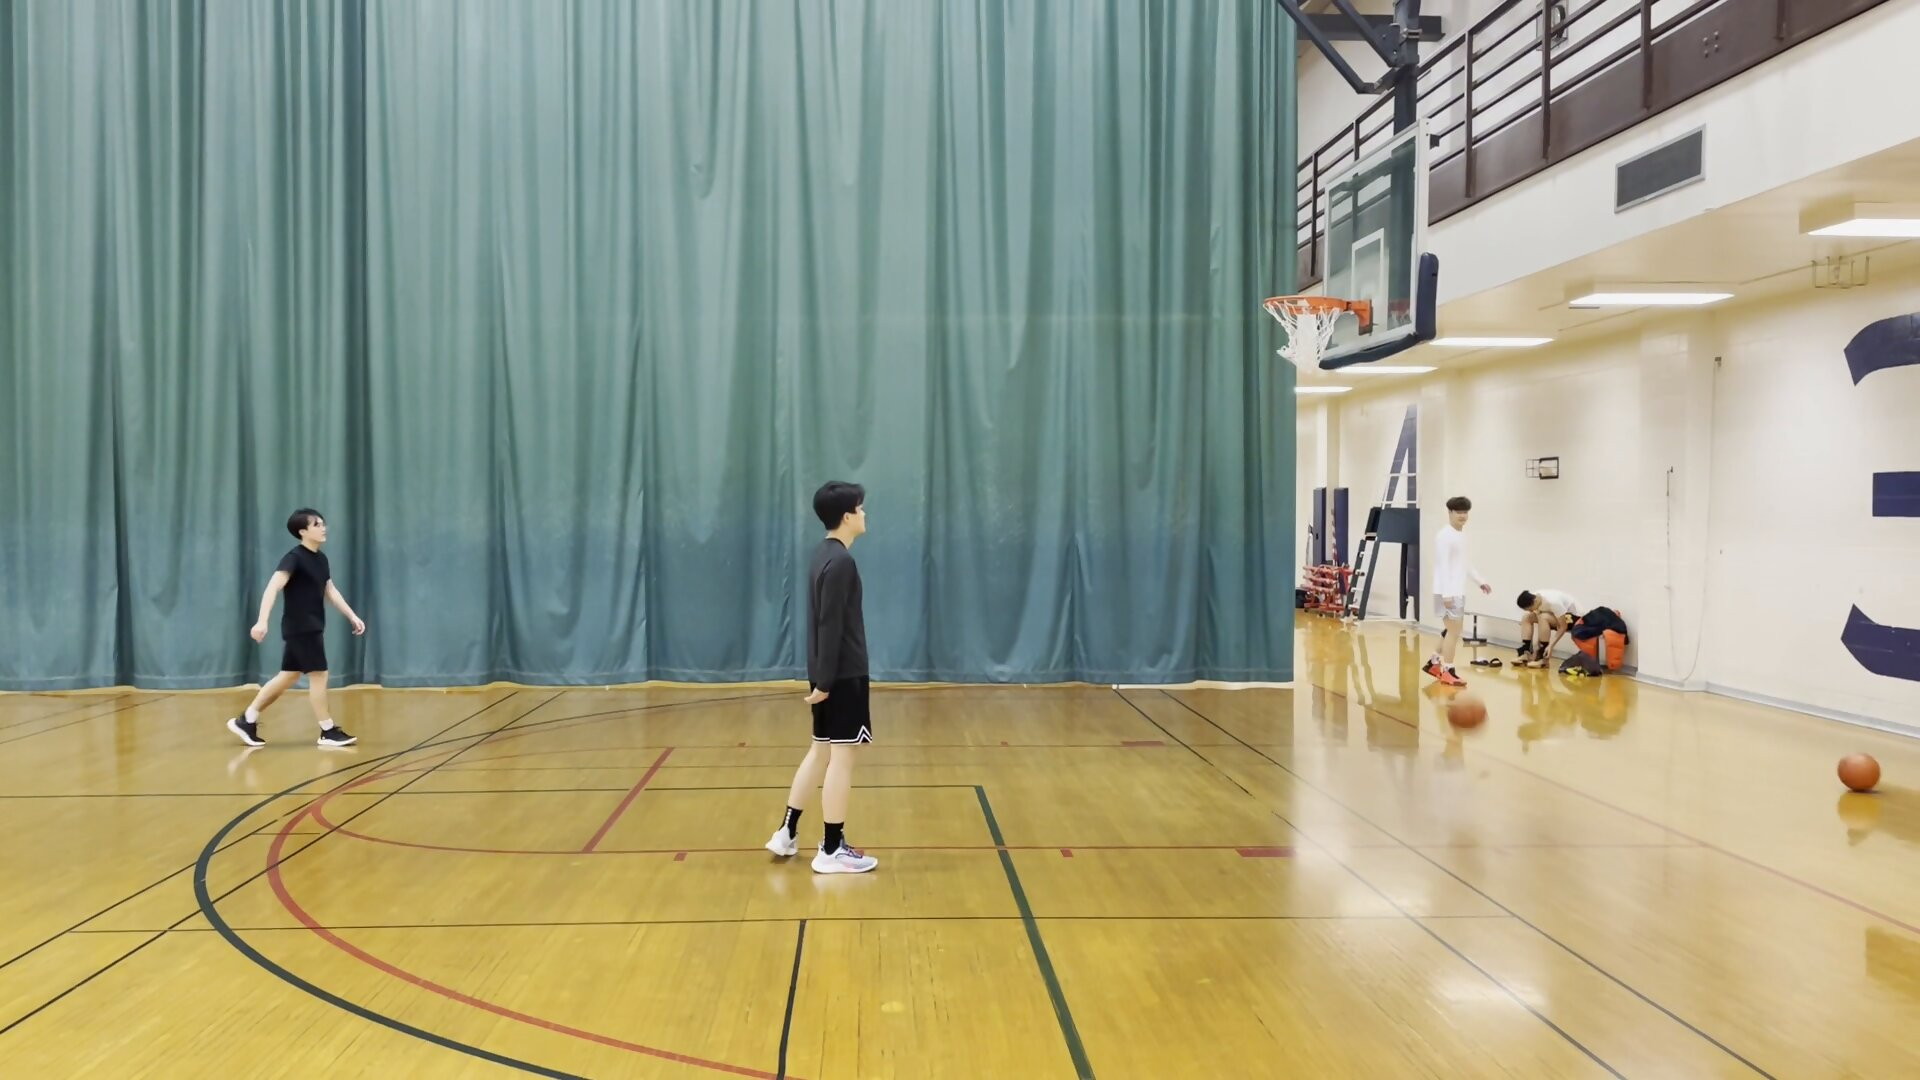ball: (1839, 750, 1881, 792), (1448, 693, 1486, 731)
net: (1274, 339, 1327, 379)
player: (779, 474, 887, 877), (236, 510, 362, 754), (1426, 489, 1474, 689), (1512, 588, 1576, 670)
rim: (1260, 293, 1349, 319)
